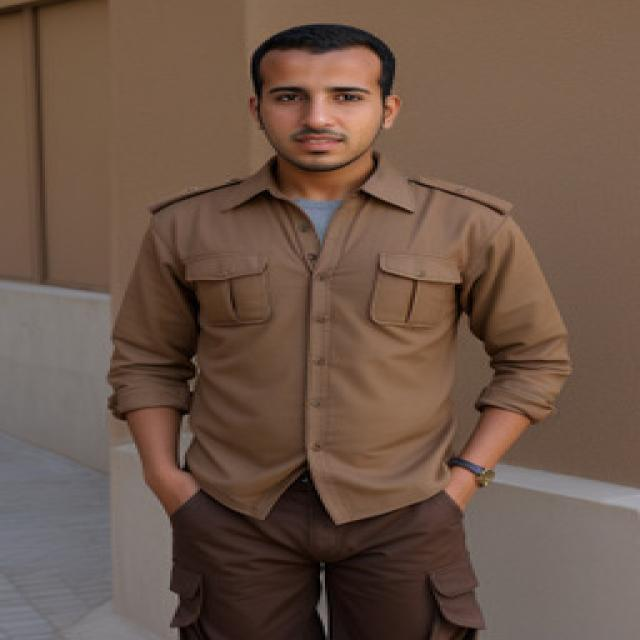Ai human 2: (97, 11, 584, 640)
